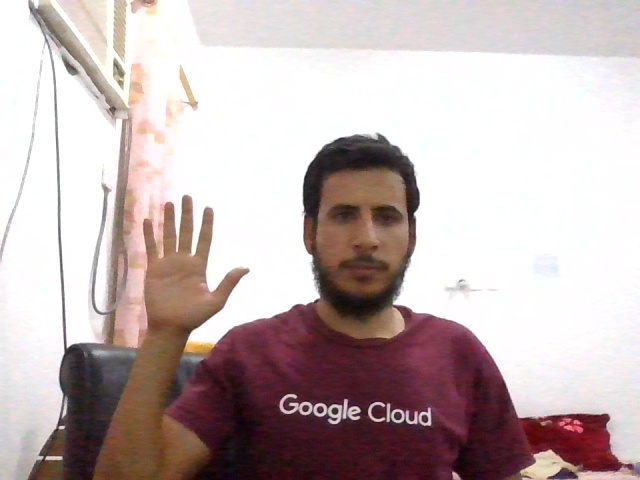Five: (143, 195, 250, 328)
